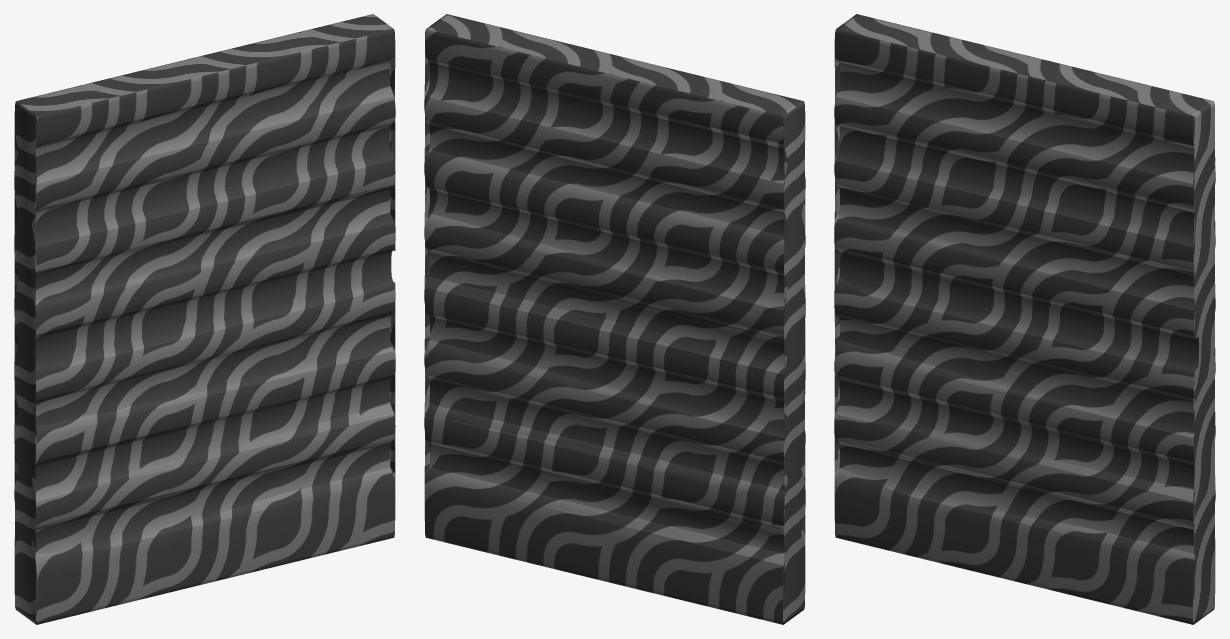
The model's file is puerta-1.obj.
3 views of the same model, side by side, from view 1: azimuth 30°, elevation 25°; view 2: azimuth 150°, elevation 25°; view 3: azimuth 330°, elevation 25° (orthographic).
Parts seen in each view (by area): view 1: polySurface2543; view 2: polySurface2543; view 3: polySurface2543.
Part boxes in pixels (bbox=[...]): polySurface2543: bbox=[14, 14, 395, 624]; polySurface2543: bbox=[424, 14, 805, 624]; polySurface2543: bbox=[834, 14, 1215, 624].
Size of the model in its own units: 7.98 by 10.77 by 0.8501.
